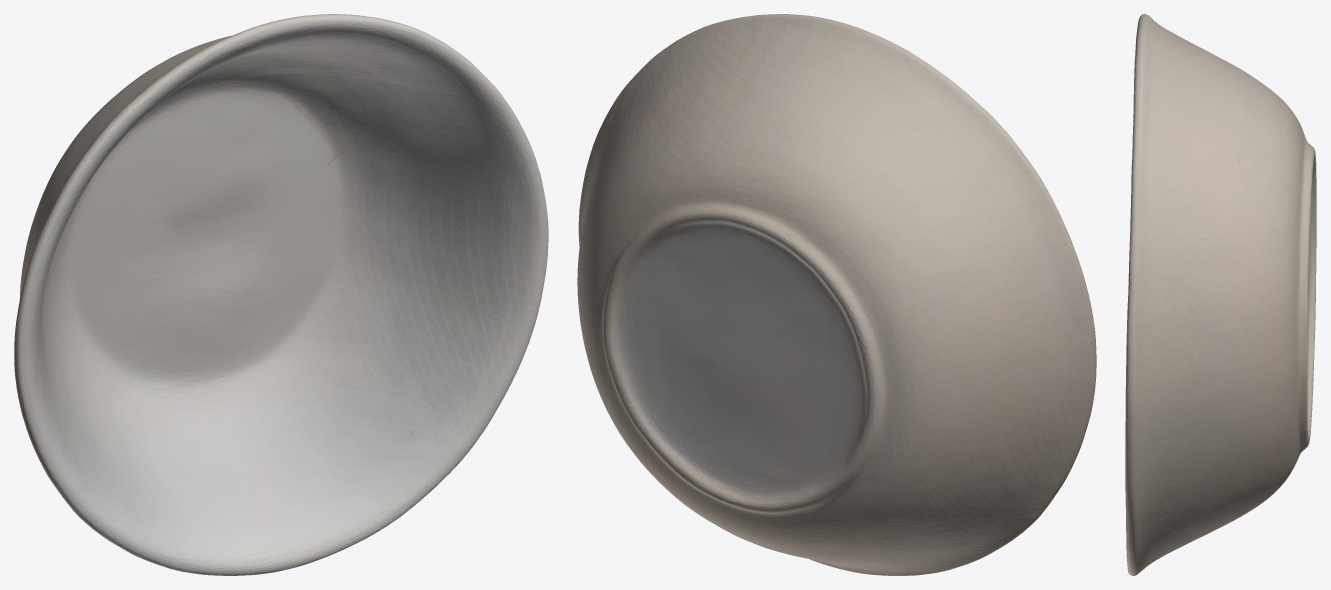
File: white_ceramic_bowl_empty_white_bowl_round_white_bowl_white_p_ptiqlt.glb
3 renders of one model, left to right at view 1: azimuth 30°, elevation 25°; view 2: azimuth 150°, elevation 25°; view 3: azimuth 270°, elevation 25°, orthographic. The views are drawn at different scales.
Parts seen in each view (by area): view 1: world; view 2: world; view 3: world.
Boxes of the visible parts, x1,y1,x2,y2 form: world: (14, 14, 548, 575); world: (577, 14, 1096, 575); world: (1125, 14, 1316, 575).
Size of the model in its own units: 0.1988 by 0.1982 by 0.0675.
Materials: 1 (1 with a texture image).
